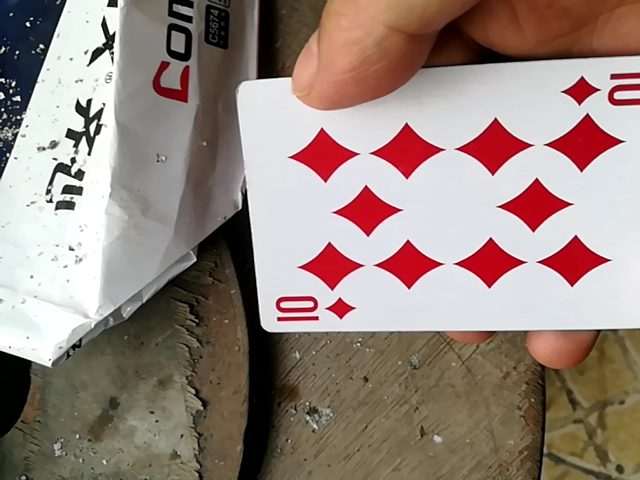fk 10: (236, 56, 638, 327)
